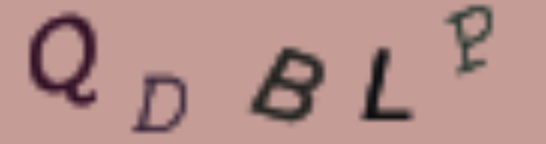B: (246, 46, 328, 128)
D: (126, 72, 191, 136)
L: (355, 43, 417, 126)
P: (442, 1, 496, 76)
Q: (26, 11, 101, 106)
